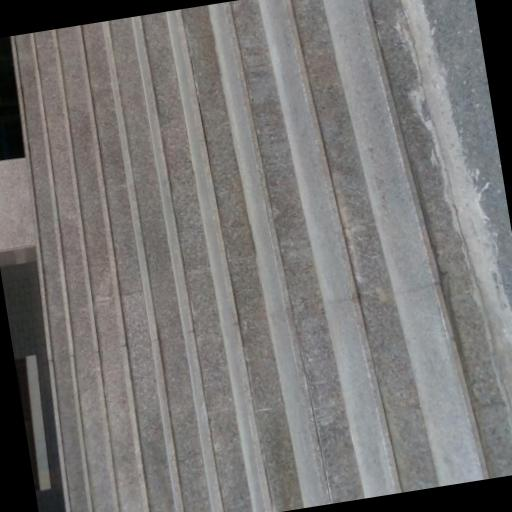stairs: (13, 0, 511, 511)
